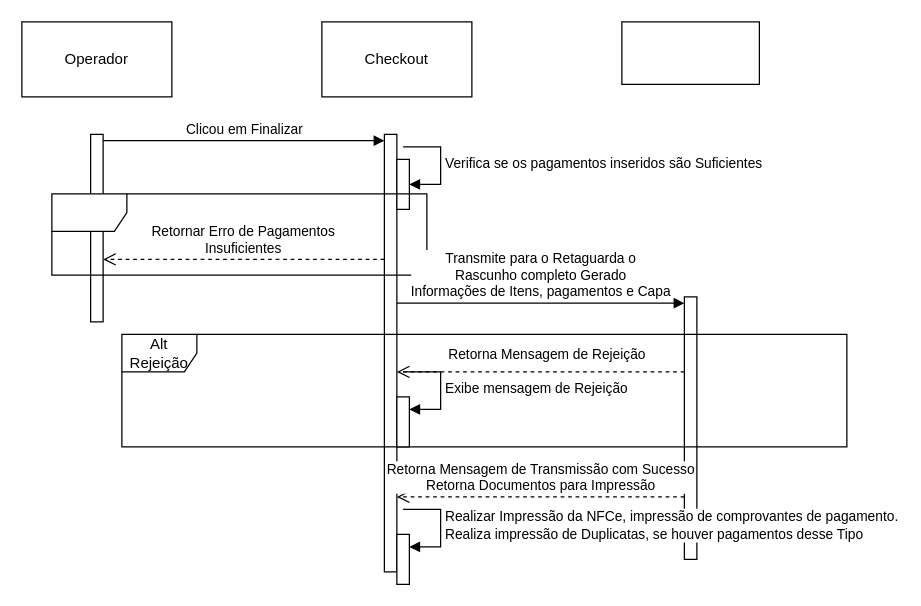
This 921x606 diagram has some shape labels left out. Each missing label, with the centre of its shape:
"alt Pag insuficiente" belongs at pixel 239 233.
"Retaguarda" belongs at pixel 690 52.
